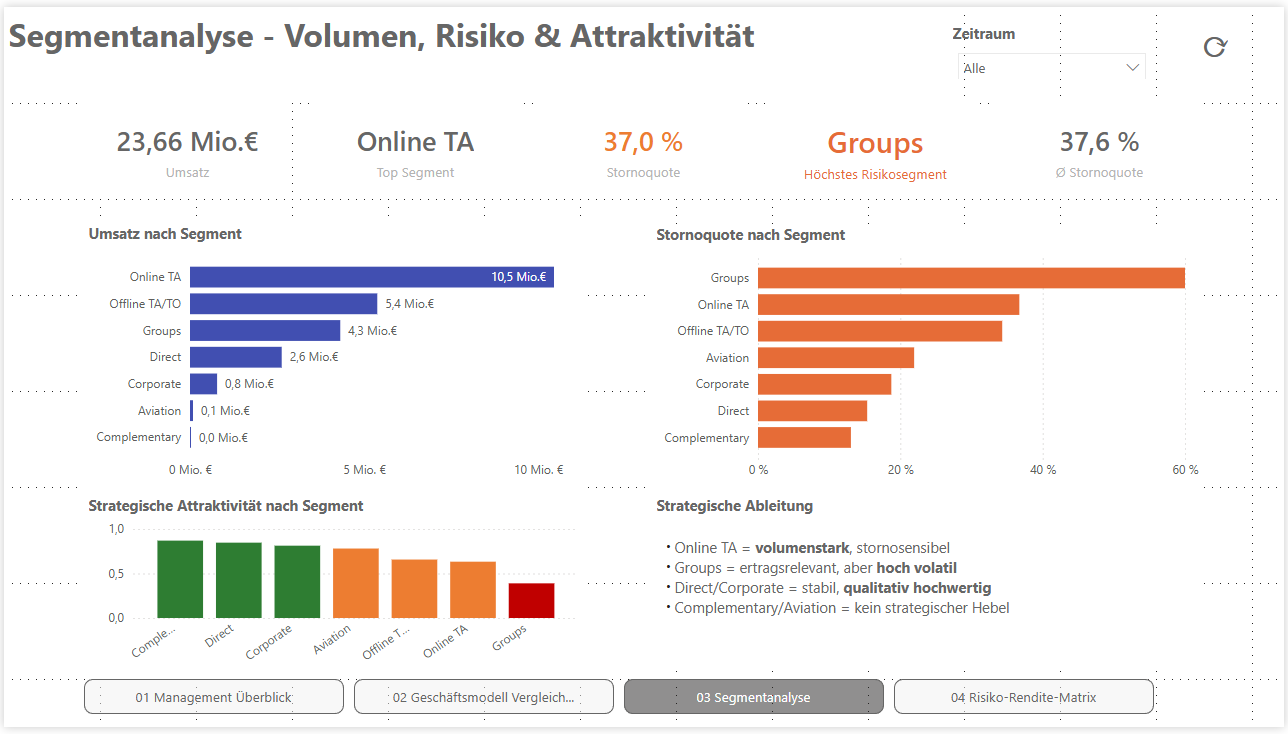

Layout of this report page (visuals, bound fields, positions):
{"tool":"powerbi","page":{"name":"03 Segmentanalyse","canvas":[1280,720],"ordinal":6},"visuals":[{"type":"textbox","box":[47.2,0,694.6,37.6],"z":0},{"type":"clusteredBarChart","fields":{"Category":["dim_marktsegment.marktsegment"],"Y":["measure_tabelle.Umsatz"]},"box":[0,37.6,446.5,252.5],"z":1000},{"type":"clusteredBarChart","fields":{"Category":["dim_marktsegment.marktsegment"],"Y":["measure_tabelle.Stornoquote"]},"box":[834.4,0,445.6,253.4],"z":2000},{"type":"clusteredBarChart","fields":{"Category":["dim_marktsegment.marktsegment"],"Y":["measure_tabelle.Umsatz YoY %"]},"box":[0.9,314.5,445.6,253.4],"z":3000},{"type":"textbox","box":[452.6,50.7,267.4,209.7],"z":4000},{"type":"textbox","box":[956.7,260.4,323.3,244.6],"z":5000},{"type":"textbox","box":[452.6,337.3,223.7,188.7],"z":6000},{"type":"textbox","box":[942.7,519.9,337.3,200.1],"z":7000},{"type":"scatterChart","fields":{"X":["measure_tabelle.Stornoquote"],"Y":["measure_tabelle.Umsatz"],"Size":["measure_tabelle.Umsatz"],"Series":["dim_marktsegment.marktsegment"]},"box":[586.3,388.5,344.4,331.6],"z":8000},{"type":"textbox","box":[0.9,619.5,446.5,100.5],"z":9000}]}

Visuals, with their boxes in screenshot pixels (x1, y1, x2, y2), scaled from the page's 1280x720 canvas onto the 1288x734 screenshot:
textbox: <box>47,0,746,38</box>
clusteredBarChart - dim_marktsegment.marktsegment x measure_tabelle.Umsatz: <box>0,38,449,296</box>
clusteredBarChart - dim_marktsegment.marktsegment x measure_tabelle.Stornoquote: <box>840,0,1287,258</box>
clusteredBarChart - dim_marktsegment.marktsegment x measure_tabelle.Umsatz YoY %: <box>1,321,449,579</box>
textbox: <box>455,52,725,265</box>
textbox: <box>963,265,1287,515</box>
textbox: <box>455,344,681,536</box>
textbox: <box>949,530,1287,733</box>
scatterChart - measure_tabelle.Stornoquote x measure_tabelle.Umsatz: <box>590,396,937,733</box>
textbox: <box>1,632,450,733</box>
